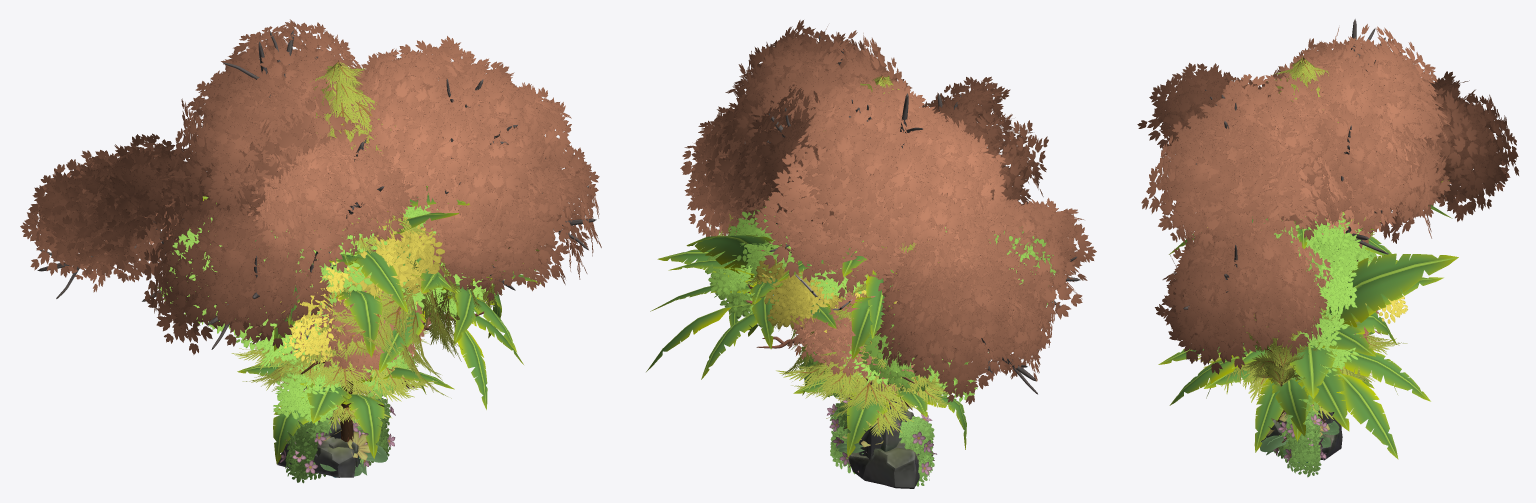
The model's file is natureza.glb.
3 renders of one model, left to right at view 1: azimuth 30°, elevation 25°; view 2: azimuth 150°, elevation 25°; view 3: azimuth 270°, elevation 25°, orthographic. The views are drawn at different scales.
Visible parts, largest first — view 1: MapleTree_5, MapleTree_2, MapleTree_1, PineTree_4, BirchTree_5, PalmTree_5, PalmTree_4, PineTree_2, PineTree_5, NormalTree_3, NormalTree_5, MapleTree_4 (+10 smaller); view 2: MapleTree_5, MapleTree_2, MapleTree_1, NormalTree_3, MapleTree_4, PineTree_5, PalmTree_2, BirchTree_5, Rock_5, PalmTree_4, NormalTree_4, PalmTree_5 (+8 smaller); view 3: MapleTree_5, MapleTree_1, MapleTree_2, PalmTree_2, PalmTree_4, NormalTree_3, NormalTree_4, PineTree_4, Bush_Large_Flowers, PineTree_2, Bush_Large, PalmTree_5 (+5 smaller).
Part boxes in pixels (x1,y1,x2,y2): MapleTree_5: (143,19,573,354); MapleTree_2: (20,52,437,423); MapleTree_1: (203,89,601,301); PineTree_4: (301,247,539,441); BirchTree_5: (280,213,444,328); PalmTree_5: (237,361,454,464); PalmTree_4: (379,270,540,409); PineTree_2: (309,60,431,314); PineTree_5: (231,301,429,431); NormalTree_3: (235,214,501,368); NormalTree_5: (273,343,417,425); MapleTree_4: (284,289,431,384); MapleTree_5: (722,20,1096,347); MapleTree_2: (738,76,1051,404); MapleTree_1: (680,102,983,298); NormalTree_3: (705,198,968,391); MapleTree_4: (787,290,914,395); PineTree_5: (791,293,953,436); PalmTree_2: (657,235,853,399); BirchTree_5: (756,258,852,329); Rock_5: (848,399,919,488); PalmTree_4: (646,278,851,399); NormalTree_4: (728,206,1055,306); PalmTree_5: (793,352,988,456); MapleTree_5: (1141,19,1450,257); MapleTree_1: (1155,62,1451,374); MapleTree_2: (1137,63,1518,240); PalmTree_2: (1252,216,1458,436); PalmTree_4: (1158,277,1443,459); NormalTree_3: (1258,231,1370,388); NormalTree_4: (1274,213,1376,326); PineTree_4: (1194,307,1375,421); Bush_Large_Flowers: (1284,405,1328,473); PineTree_2: (1266,56,1380,227); Bush_Large: (1284,406,1321,473); PalmTree_5: (1204,368,1397,441).
Size of the model in its own units: 8.53 by 7.56 by 6.24.
Materials: 14 (14 with a texture image).
